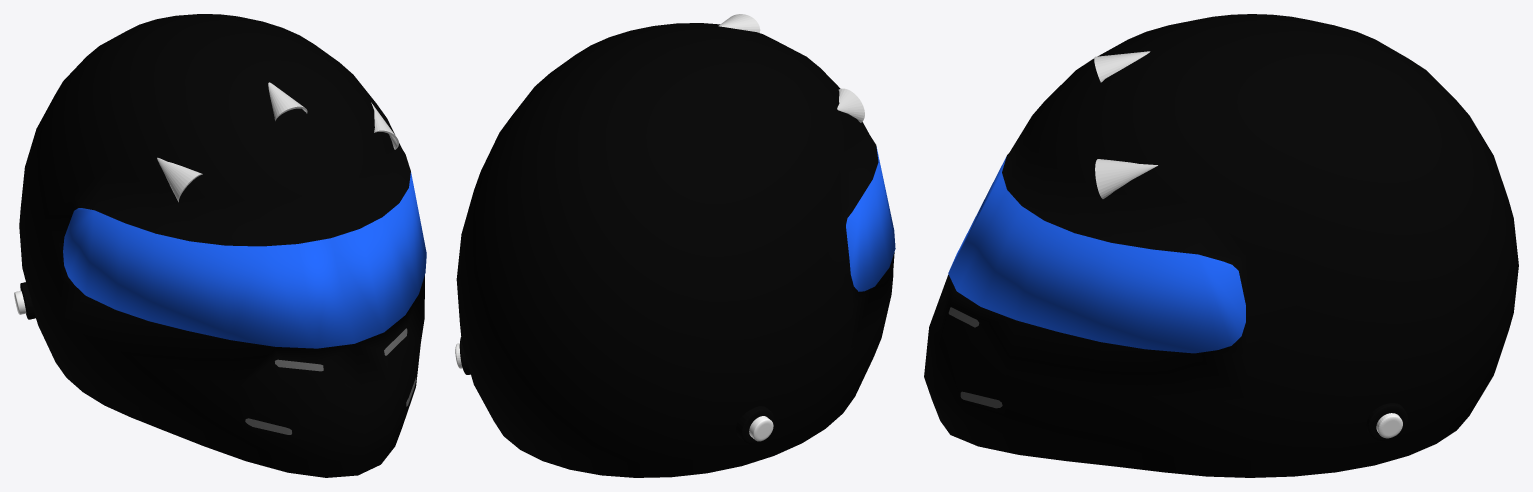
The model's file is racing_helmet.glb.
The picture shows the model from 3 angles, left to right: view 1: azimuth 30°, elevation 25°; view 2: azimuth 150°, elevation 25°; view 3: azimuth 270°, elevation 25°; orthographic projection. The views are drawn at different scales.
Parts seen in each view (by area): view 1: Sphere_4, Cone_5, Cone.002_7; view 2: Sphere_4, Cylinder.002_10, Cone_5, Cone.002_7, Cylinder.003_11; view 3: Sphere_4, Cone.001_6, Cone.002_7, Cylinder_8.
Part boxes in pixels (box(x1,y1,x2,y2)): Sphere_4: box(19, 14, 426, 477); Cone_5: box(157, 157, 202, 202); Cone.002_7: box(268, 82, 307, 120); Sphere_4: box(456, 23, 895, 477); Cylinder.002_10: box(736, 406, 773, 443); Cone_5: box(837, 88, 864, 122); Cone.002_7: box(718, 14, 760, 32); Cylinder.003_11: box(749, 416, 773, 441); Sphere_4: box(924, 14, 1518, 477); Cone.001_6: box(1095, 159, 1157, 198); Cone.002_7: box(1094, 51, 1150, 82); Cylinder_8: box(1366, 403, 1407, 440).
Bounding box in the file's own units: 1.6 × 1.58 × 2.22.
